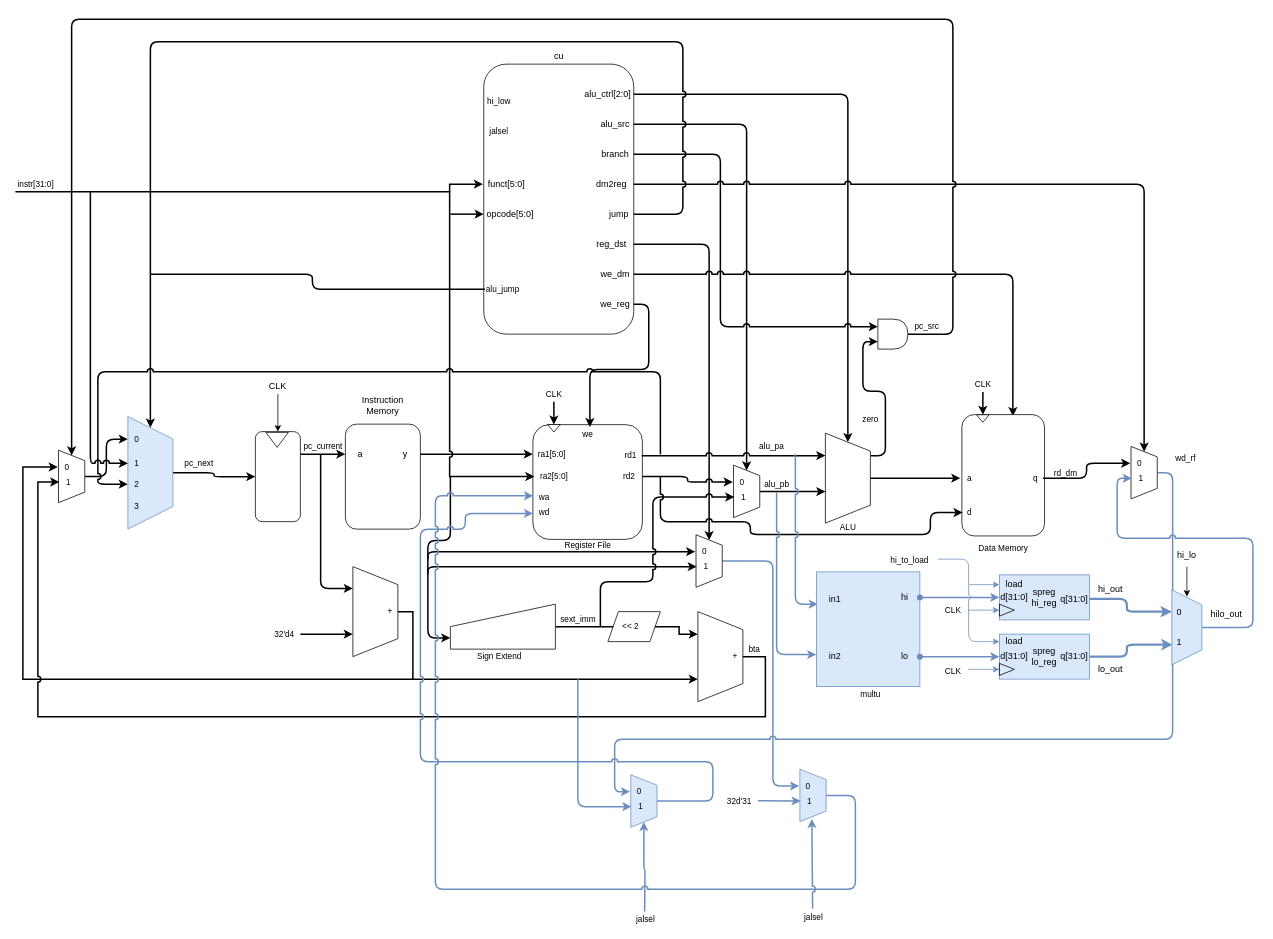
Some shapes in this 1273 by 939 pixel diagram are drawn without their labels. Here are the shapes that lost their labels. From the top down, the centre of each, then its label:
At pixel 847 477: "alu_out".
At pixel 502 626: "a[15:0]".
